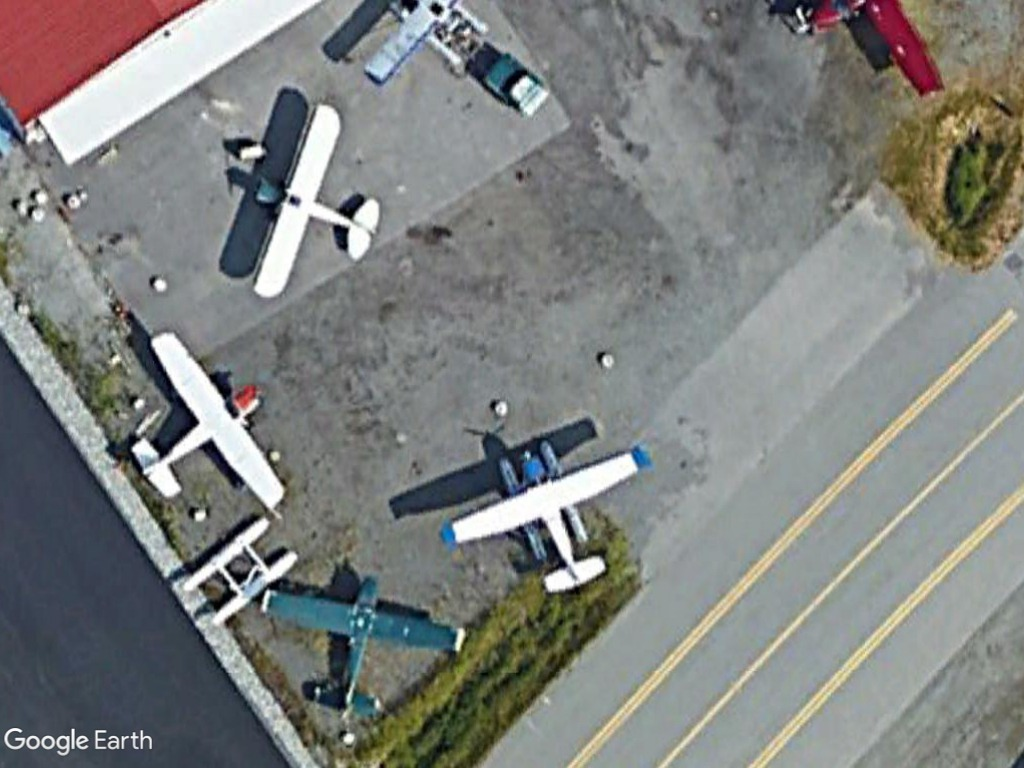trainer: (434, 432, 655, 600), (262, 569, 470, 723), (129, 327, 289, 524), (245, 97, 390, 305)
